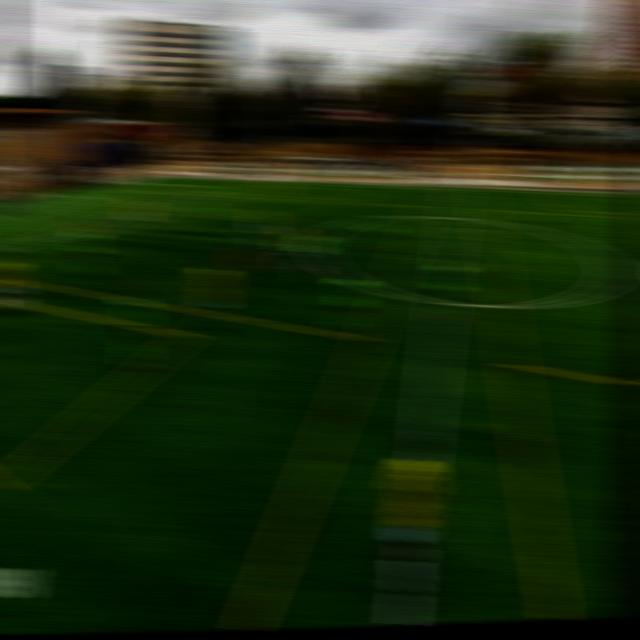bigarea_top_inner: (209, 182, 233, 191)
bigarea_top_outter: (119, 180, 142, 186)
bottom_arc_area_intersection: (23, 231, 51, 248)
corner: (147, 173, 168, 181)
halfcircle_top: (441, 210, 464, 225)
midline_top_intersection: (448, 183, 466, 194)
smallarea_top_inner: (85, 191, 108, 202)
smallarea_top_outter: (54, 191, 76, 200)
top_arc_area_intersection: (150, 197, 171, 209)
